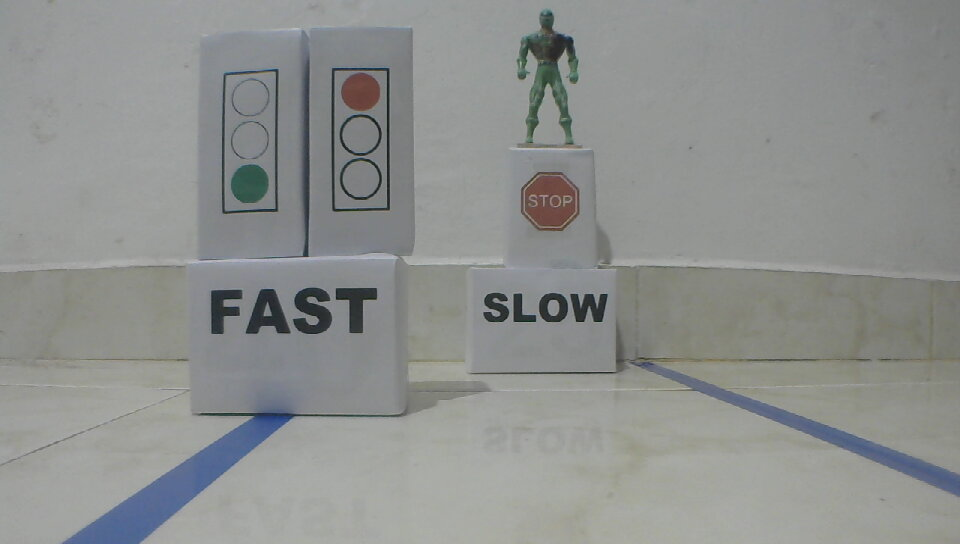Fast: (209, 284, 382, 338)
Green Traffic Light: (219, 67, 281, 216)
Person: (514, 7, 584, 147)
Red Traffic Light: (327, 64, 394, 218)
Slow: (479, 288, 612, 326)
Stop Sign: (519, 171, 582, 234)
